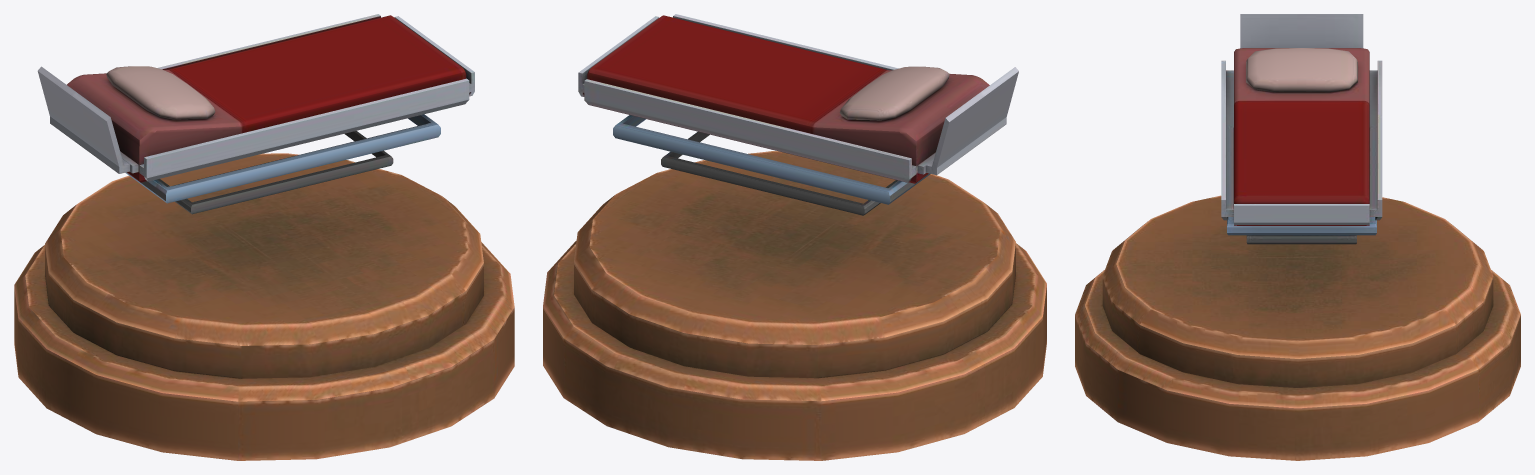
File: MACABRONZE.fbx
The picture shows the model from 3 angles, left to right: view 1: azimuth 30°, elevation 25°; view 2: azimuth 150°, elevation 25°; view 3: azimuth 270°, elevation 25°; orthographic projection. The views are drawn at different scales.
Visible parts, largest first — view 1: polySurface29, polySurface30; view 2: polySurface29, polySurface30; view 3: polySurface29, polySurface30.
Boxes of the visible parts, bbox=[...] form: polySurface29: bbox=[14, 153, 514, 460]; polySurface30: bbox=[37, 14, 474, 214]; polySurface29: bbox=[543, 151, 1046, 460]; polySurface30: bbox=[578, 14, 1018, 215]; polySurface29: bbox=[1075, 195, 1520, 460]; polySurface30: bbox=[1221, 14, 1382, 244].
Size of the model in its own units: 0.4773 by 0.3217 by 0.4773.
1 material, 1 textured.
